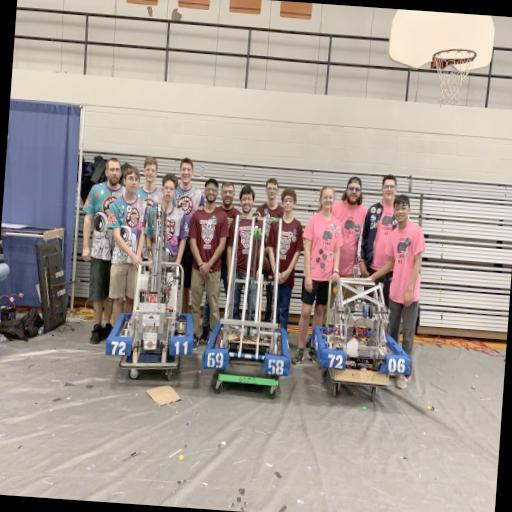robot: (103, 192, 204, 362), (200, 212, 301, 376), (306, 270, 418, 380)
